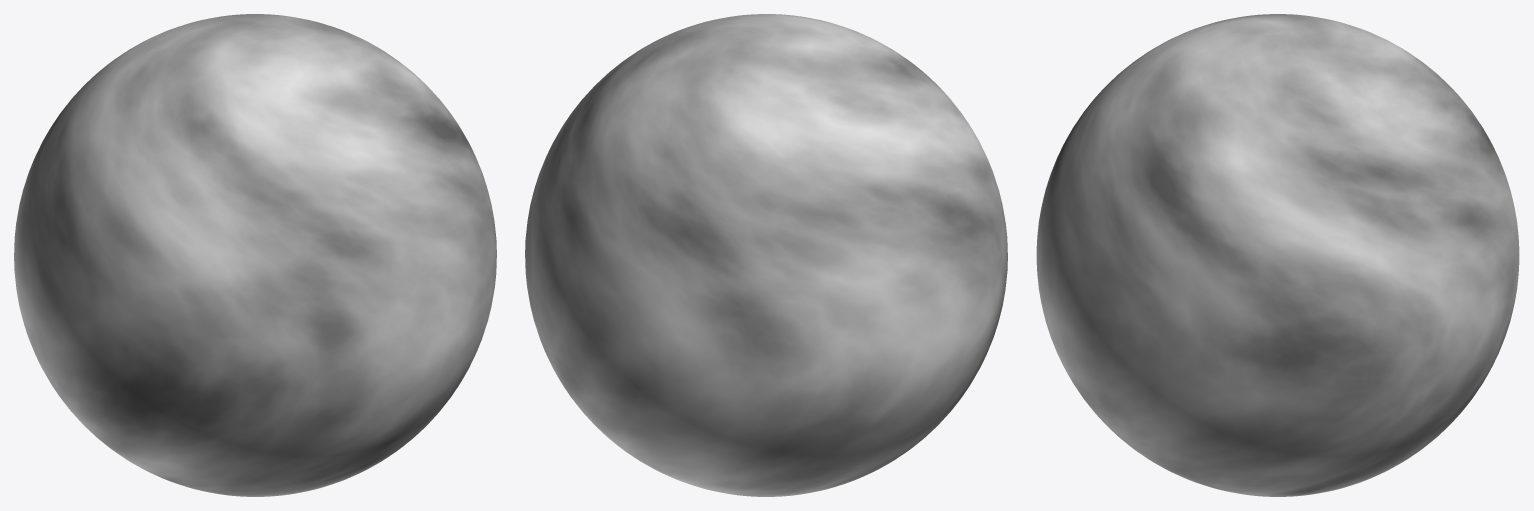
Rendered from gliese_581_d.glb.
3 views of the same model, side by side, from view 1: azimuth 30°, elevation 25°; view 2: azimuth 150°, elevation 25°; view 3: azimuth 270°, elevation 25° (orthographic).
Visible parts, largest first — view 1: Atmosfera; view 2: Atmosfera; view 3: Atmosfera.
Boxes of the visible parts, box(x1,y1,x2,y2) form: Atmosfera: box(14, 14, 496, 496); Atmosfera: box(525, 14, 1007, 496); Atmosfera: box(1036, 14, 1519, 496).
Bounding box in the file's own units: 2024 × 2024 × 2024.
Materials: 2 (2 with a texture image).
